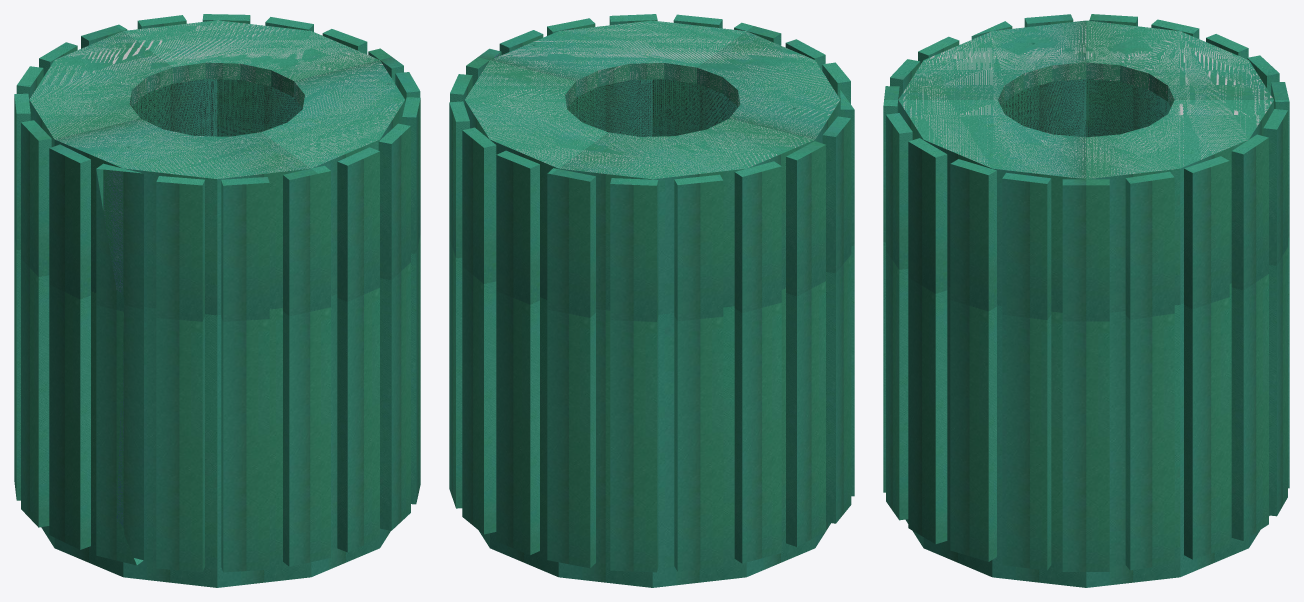
The picture shows the model from 3 angles, left to right: view 1: azimuth 30°, elevation 25°; view 2: azimuth 150°, elevation 25°; view 3: azimuth 270°, elevation 25°; orthographic projection.
Parts seen in each view (by area): view 1: mesh1_mesh1-geometry, mesh13_mesh13-geometry, mesh12_mesh12-geometry, mesh14_mesh14-geometry, mesh15_mesh15-geometry, mesh11_mesh11-geometry, mesh16_mesh16-geometry, mesh10_mesh10-geometry, mesh17_mesh17-geometry, mesh9_mesh9-geometry, mesh8_mesh8-geometry, mesh2_mesh2-geometry; view 2: mesh1_mesh1-geometry, mesh8_mesh8-geometry, mesh7_mesh7-geometry, mesh6_mesh6-geometry, mesh9_mesh9-geometry, mesh5_mesh5-geometry, mesh10_mesh10-geometry, mesh4_mesh4-geometry, mesh11_mesh11-geometry, mesh3_mesh3-geometry, mesh12_mesh12-geometry; view 3: mesh1_mesh1-geometry, mesh18_mesh18-geometry, mesh2_mesh2-geometry, mesh17_mesh17-geometry, mesh3_mesh3-geometry, mesh16_mesh16-geometry, mesh4_mesh4-geometry, mesh15_mesh15-geometry, mesh5_mesh5-geometry, mesh14_mesh14-geometry, mesh6_mesh6-geometry, mesh13_mesh13-geometry (+1 smaller).
Part boxes in pixels (x1=…): mesh1_mesh1-geometry: x1=29, y1=20, x2=405, y2=587; mesh13_mesh13-geometry: x1=221, y1=177, x2=269, y2=572; mesh12_mesh12-geometry: x1=156, y1=176, x2=204, y2=572; mesh14_mesh14-geometry: x1=283, y1=165, x2=330, y2=566; mesh15_mesh15-geometry: x1=337, y1=147, x2=379, y2=552; mesh11_mesh11-geometry: x1=49, y1=144, x2=90, y2=549; mesh16_mesh16-geometry: x1=378, y1=123, x2=410, y2=530; mesh10_mesh10-geometry: x1=21, y1=120, x2=51, y2=527; mesh17_mesh17-geometry: x1=402, y1=97, x2=420, y2=504; mesh9_mesh9-geometry: x1=14, y1=93, x2=30, y2=500; mesh8_mesh8-geometry: x1=16, y1=66, x2=43, y2=99; mesh2_mesh2-geometry: x1=322, y1=29, x2=367, y2=54; mesh1_mesh1-geometry: x1=464, y1=20, x2=854, y2=587; mesh8_mesh8-geometry: x1=674, y1=174, x2=723, y2=571; mesh7_mesh7-geometry: x1=610, y1=178, x2=658, y2=572; mesh6_mesh6-geometry: x1=547, y1=168, x2=595, y2=568; mesh9_mesh9-geometry: x1=734, y1=161, x2=781, y2=563; mesh5_mesh5-geometry: x1=496, y1=150, x2=539, y2=555; mesh10_mesh10-geometry: x1=786, y1=141, x2=825, y2=546; mesh4_mesh4-geometry: x1=462, y1=127, x2=496, y2=534; mesh11_mesh11-geometry: x1=822, y1=116, x2=851, y2=523; mesh3_mesh3-geometry: x1=449, y1=101, x2=469, y2=508; mesh12_mesh12-geometry: x1=822, y1=62, x2=850, y2=103; mesh1_mesh1-geometry: x1=898, y1=20, x2=1273, y2=587; mesh18_mesh18-geometry: x1=1002, y1=172, x2=1051, y2=570; mesh2_mesh2-geometry: x1=1125, y1=171, x2=1174, y2=570; mesh17_mesh17-geometry: x1=950, y1=159, x2=996, y2=561; mesh3_mesh3-geometry: x1=1184, y1=156, x2=1229, y2=559; mesh16_mesh16-geometry: x1=908, y1=138, x2=947, y2=544; mesh4_mesh4-geometry: x1=1231, y1=134, x2=1268, y2=540; mesh15_mesh15-geometry: x1=886, y1=113, x2=912, y2=520; mesh5_mesh5-geometry: x1=1263, y1=109, x2=1287, y2=516; mesh14_mesh14-geometry: x1=883, y1=86, x2=899, y2=492; mesh6_mesh6-geometry: x1=1271, y1=82, x2=1289, y2=488; mesh13_mesh13-geometry: x1=890, y1=59, x2=920, y2=97.
Bounding box in the file's own units: 0.5553 × 0.6179 × 0.5566.
